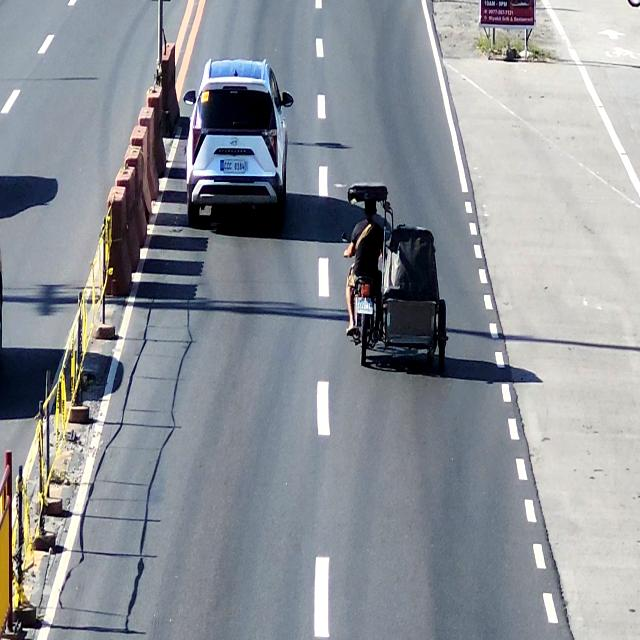Car: (182, 59, 289, 234)
License-Plate: (219, 156, 251, 180), (355, 296, 375, 318)
Tricycle: (343, 184, 450, 368)
